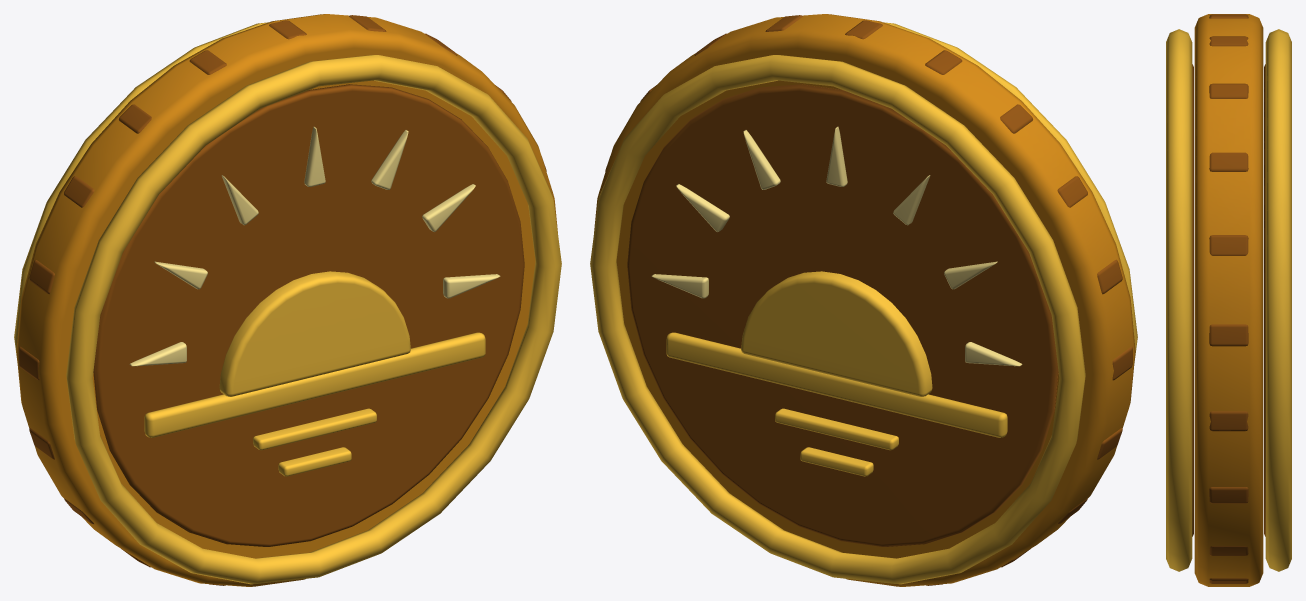
The model's file is dawn_coin.glb.
The picture shows the model from 3 angles, left to right: view 1: azimuth 30°, elevation 25°; view 2: azimuth 150°, elevation 25°; view 3: azimuth 270°, elevation 25°; orthographic projection. The views are drawn at different scales.
Visible parts, largest first — view 1: dawn_coin_runtime; view 2: dawn_coin_runtime; view 3: dawn_coin_runtime.
Boxes of the visible parts, box(x1,y1,x2,y2) form: dawn_coin_runtime: box(14, 14, 561, 586); dawn_coin_runtime: box(590, 14, 1137, 586); dawn_coin_runtime: box(1166, 14, 1291, 586).
Size of the model in its own units: 1.3 by 1.3 by 0.2848.
Materials: 1 (1 with a texture image).
